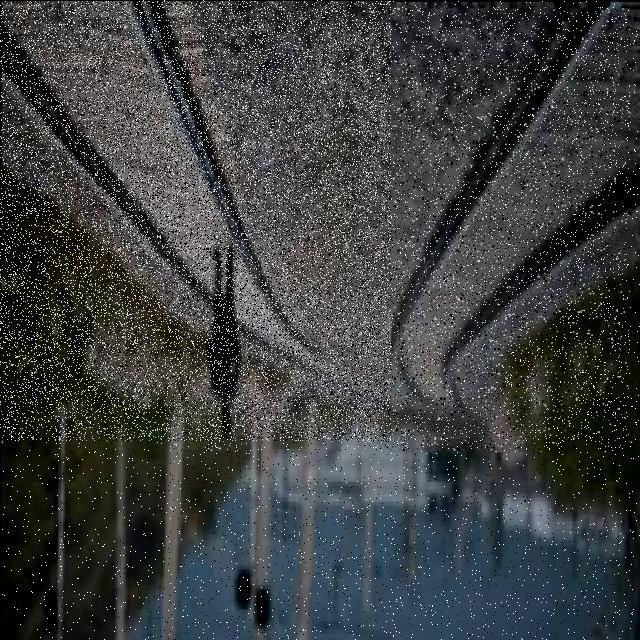danger: (198, 218, 250, 450)
rail: (0, 1, 391, 441), (363, 8, 630, 449)
